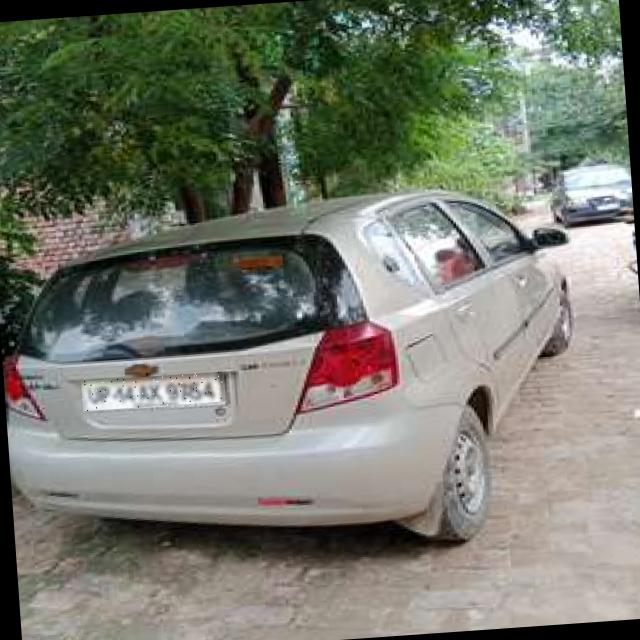Plate: (82, 372, 226, 412)
